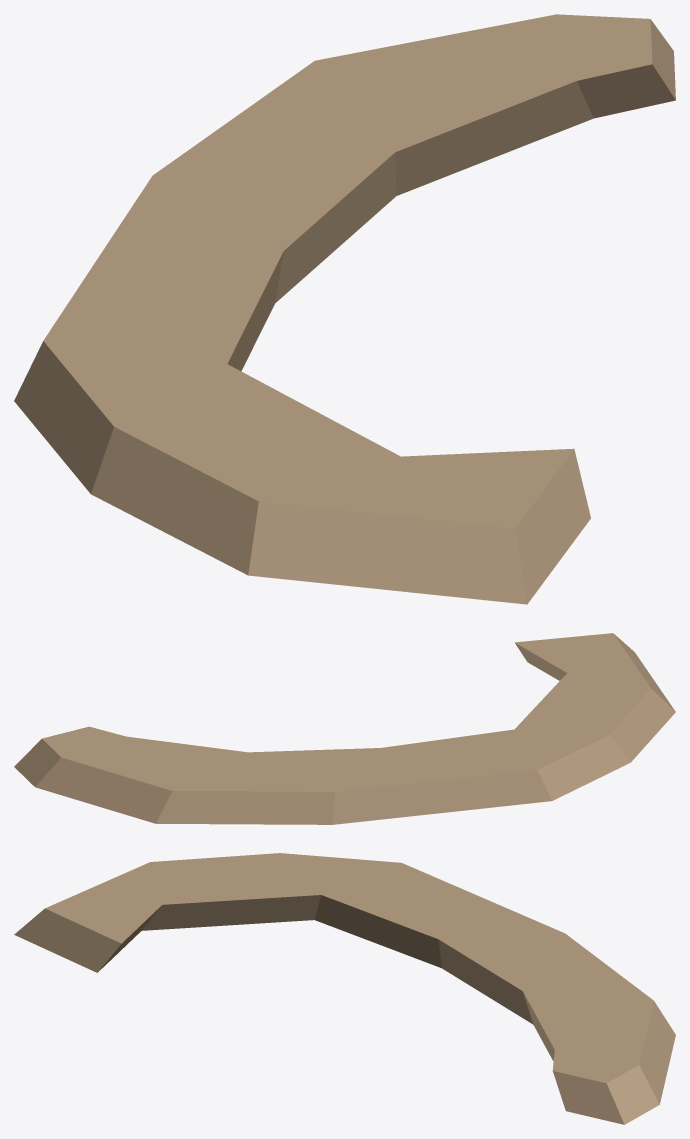
The model's file is IslandLongNew.fbx.
3 renders of one model, top to bottom at view 1: azimuth 30°, elevation 25°; view 2: azimuth 150°, elevation 25°; view 3: azimuth 270°, elevation 25°, orthographic. The views are drawn at different scales.
Parts seen in each view (by area): view 1: PolyShape__1_; view 2: PolyShape__1_; view 3: PolyShape__1_.
Boxes of the visible parts, left/top/right/bottom form: PolyShape__1_: left=14, top=14, right=675, bottom=604; PolyShape__1_: left=14, top=633, right=675, bottom=824; PolyShape__1_: left=14, top=853, right=675, bottom=1124.
Bounding box in the file's own units: 2987 × 170 × 3337.
